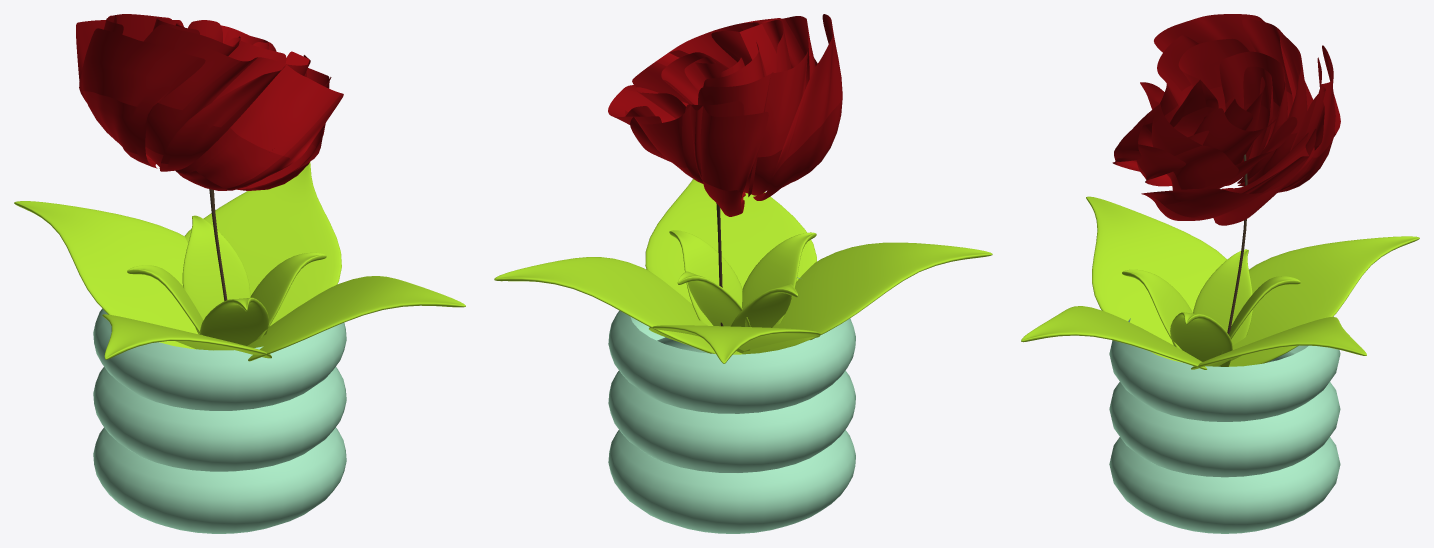
File: rosa.fbx
3 views of the same model, side by side, from view 1: azimuth 30°, elevation 25°; view 2: azimuth 150°, elevation 25°; view 3: azimuth 270°, elevation 25° (orthographic). The views are drawn at different scales.
Visible parts, largest first — view 1: Plane.016, maceta; view 2: Plane.016, maceta; view 3: Plane.016, maceta.
Boxes of the visible parts, bbox=[...] form: Plane.016: bbox=[14, 14, 465, 361]; maceta: bbox=[93, 308, 346, 533]; Plane.016: bbox=[494, 14, 992, 363]; maceta: bbox=[608, 277, 855, 533]; Plane.016: bbox=[1021, 14, 1419, 369]; maceta: bbox=[1109, 318, 1340, 533].
Bounding box in the file's own units: 15.61 × 20.62 × 16.62.
